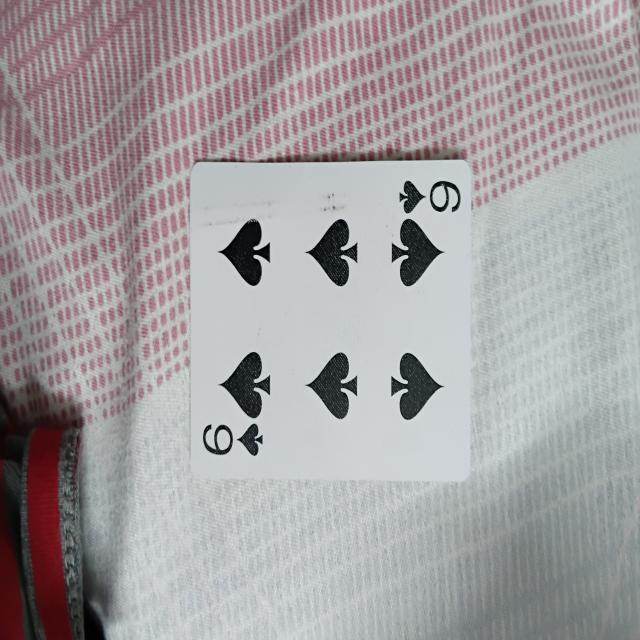6S: (196, 165, 466, 480)
